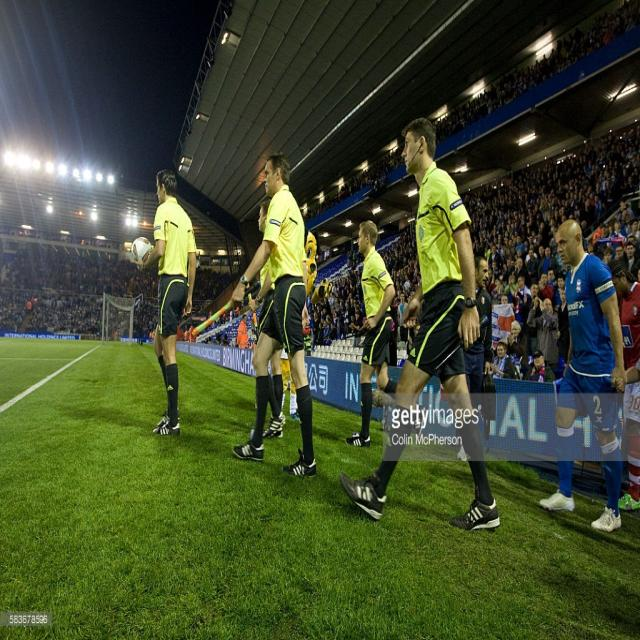body: (337, 116, 502, 532), (436, 4, 640, 149), (230, 152, 318, 479), (538, 218, 626, 532), (342, 216, 428, 451), (129, 168, 197, 438), (0, 241, 158, 347), (458, 151, 638, 244), (247, 198, 287, 440), (294, 138, 419, 210), (176, 260, 264, 350), (610, 262, 640, 511), (301, 246, 368, 348), (459, 254, 493, 393), (380, 218, 420, 290), (526, 296, 560, 369), (279, 339, 299, 423), (296, 212, 332, 246), (556, 288, 570, 364), (506, 320, 528, 368), (526, 350, 556, 385), (490, 342, 516, 380), (610, 360, 640, 392), (514, 275, 531, 326), (502, 244, 517, 296), (396, 291, 409, 346), (624, 242, 640, 283), (409, 289, 422, 337), (526, 248, 540, 290), (488, 244, 503, 280), (236, 313, 250, 349), (534, 244, 546, 284), (484, 269, 502, 295), (530, 283, 542, 318), (513, 257, 528, 284), (540, 246, 553, 276), (584, 242, 602, 260), (555, 276, 565, 306), (547, 269, 558, 292), (614, 245, 628, 263), (526, 244, 538, 263), (473, 244, 491, 255), (392, 289, 402, 307), (540, 270, 549, 288), (602, 248, 612, 264), (500, 294, 509, 305), (430, 117, 436, 132), (518, 244, 524, 256), (496, 243, 502, 254)
